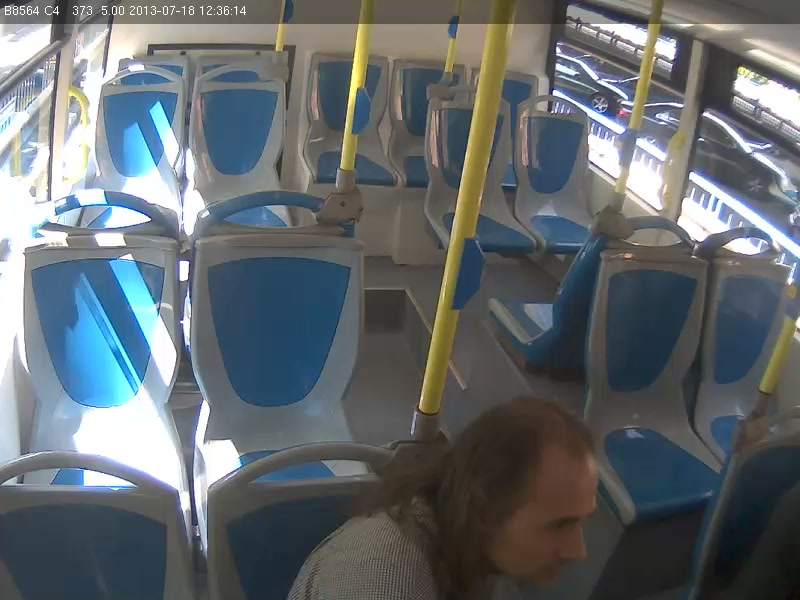Head: (447, 391, 610, 589)
